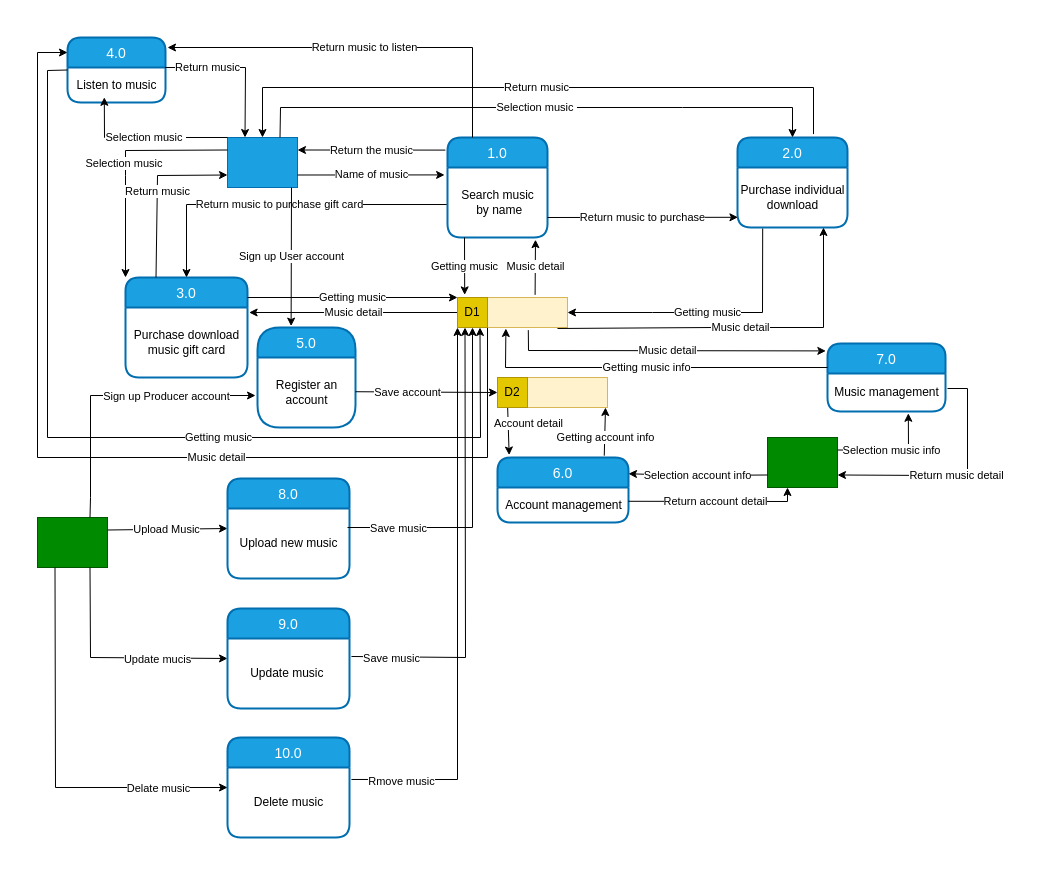
The diagram is 1044 pixels wide and 874 high, and some of its shapes have lost their labels. Here are the shapes that lost their labels. From the top down, the centre of each, then its label:
the point at 262,162: User
the point at 527,312: Music DB
the point at 567,392: Account DB
the point at 802,462: Admin
the point at 72,542: Producer
